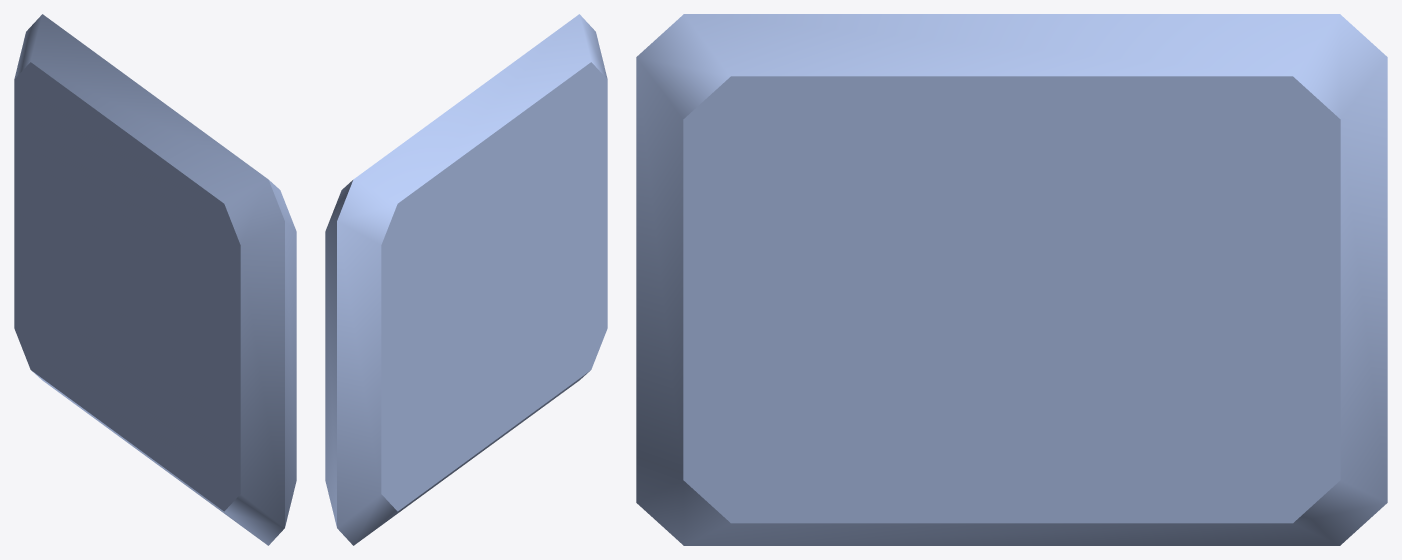
Rendered from wall.glb.
3 views of the same model, side by side, from view 1: azimuth 30°, elevation 25°; view 2: azimuth 150°, elevation 25°; view 3: azimuth 270°, elevation 25° (orthographic). The views are drawn at different scales.
Parts seen in each view (by area): view 1: wall_mesh; view 2: wall_mesh; view 3: wall_mesh.
Boxes of the visible parts, box(x1,y1,x2,y2) form: wall_mesh: box(14, 14, 296, 545); wall_mesh: box(325, 14, 607, 545); wall_mesh: box(636, 14, 1387, 545).
Size of the model in its own units: 0.5 by 3.12 by 4.
